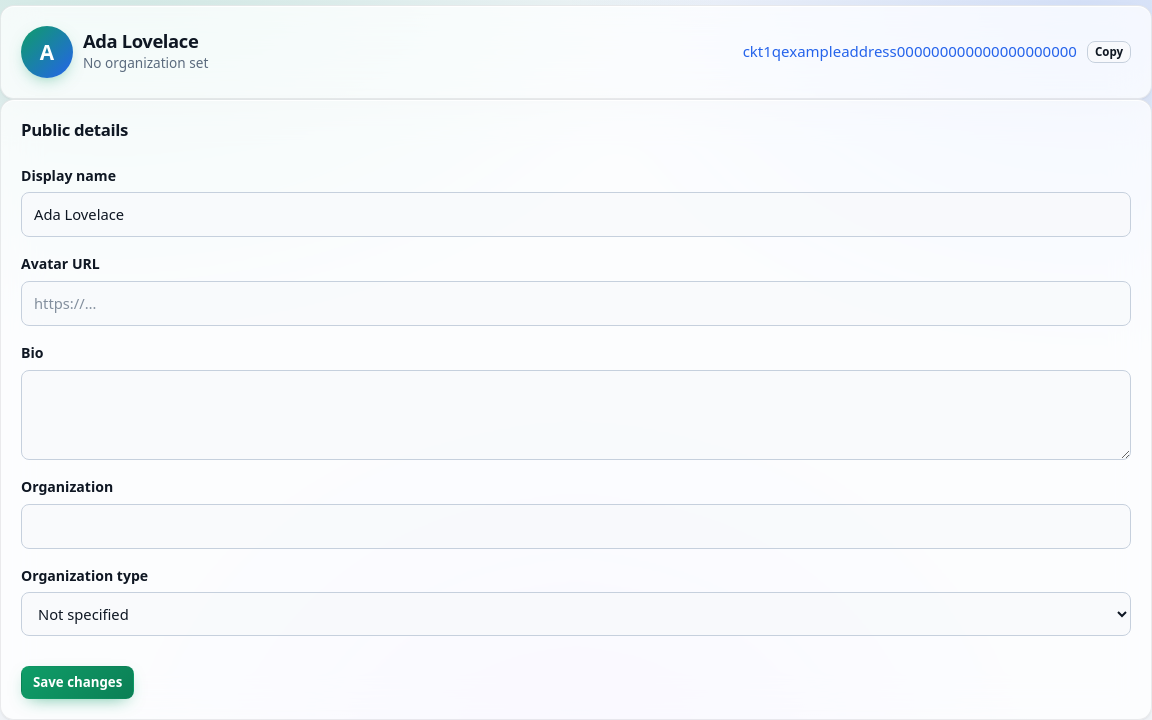
Test: profile › reports a rejected save instead of claiming success
(page scrolled)
Check: the field labelled "Display name" is shown, box [21,192,1131,237]
Click the button "Save changes". click: x=78, y=683
box: [21,666,134,699]
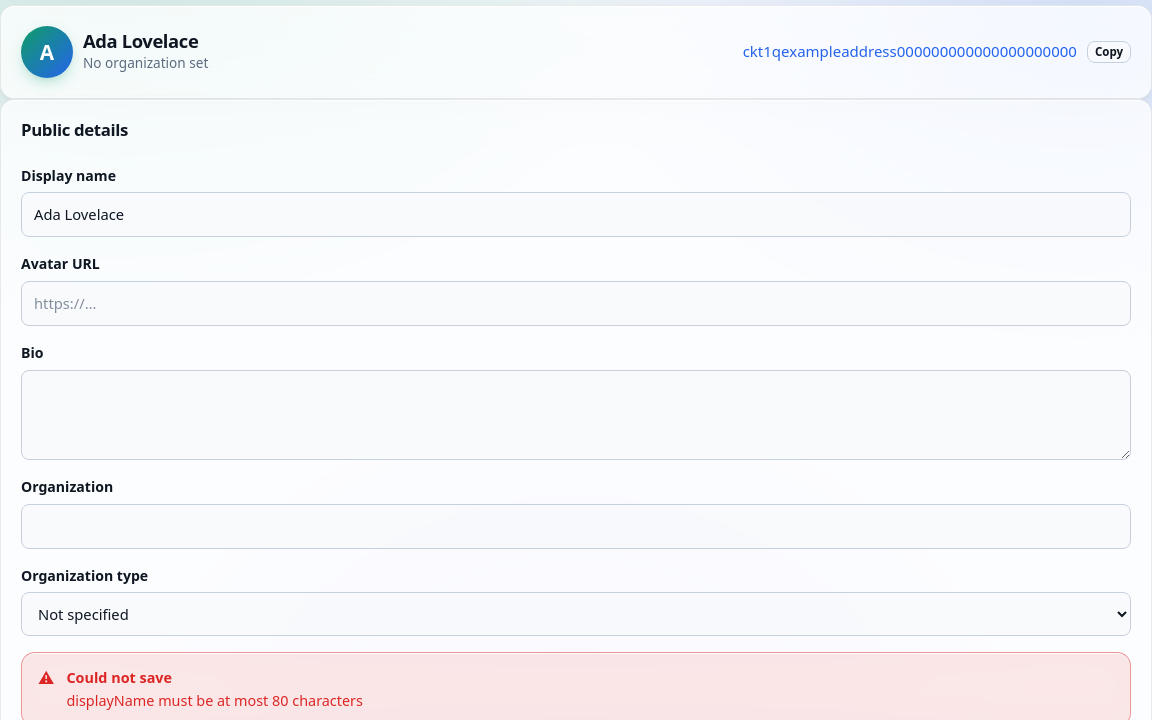
Check: the text "Could not save" is shown, box [66,668,172,687]
